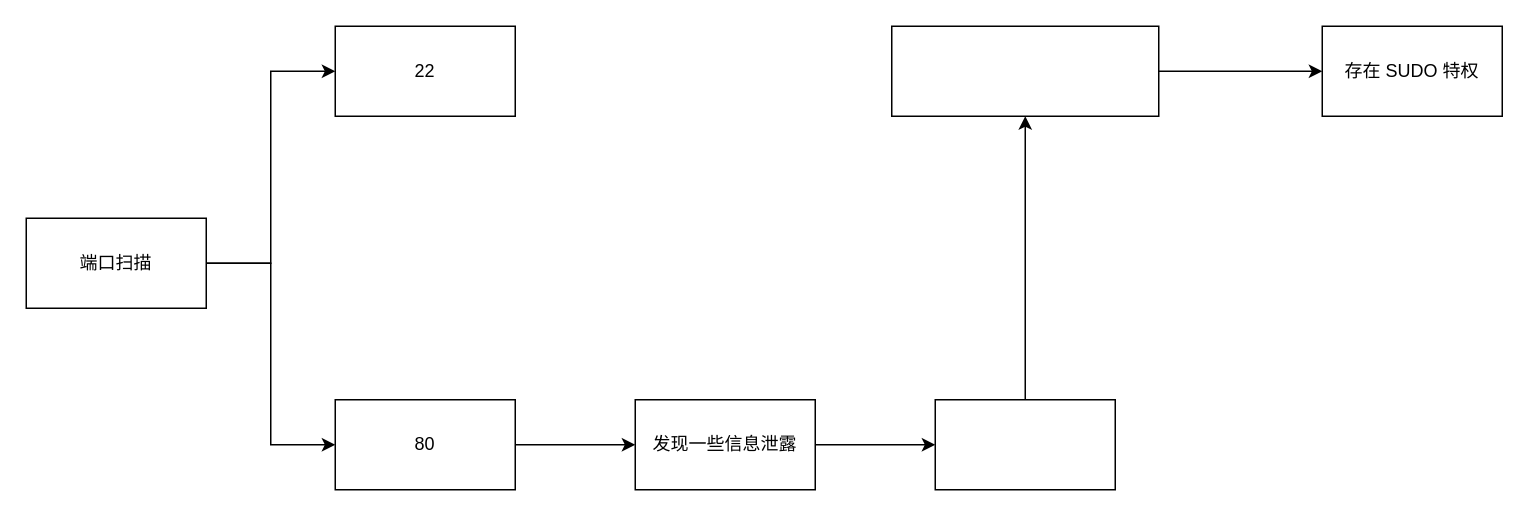
Image size: 1529x516. Some labels were removed from this diagram. The shapes that lost their labels are listed below. From the top down, each one's box as (x1, y1, x2, y2) in pixels, then its label:
(890, 25, 1159, 116): 获取到 www-data 用户的 Shell
(934, 398, 1115, 490): 使用信息泄露的内容作为登陆发现其功能为命令注入
